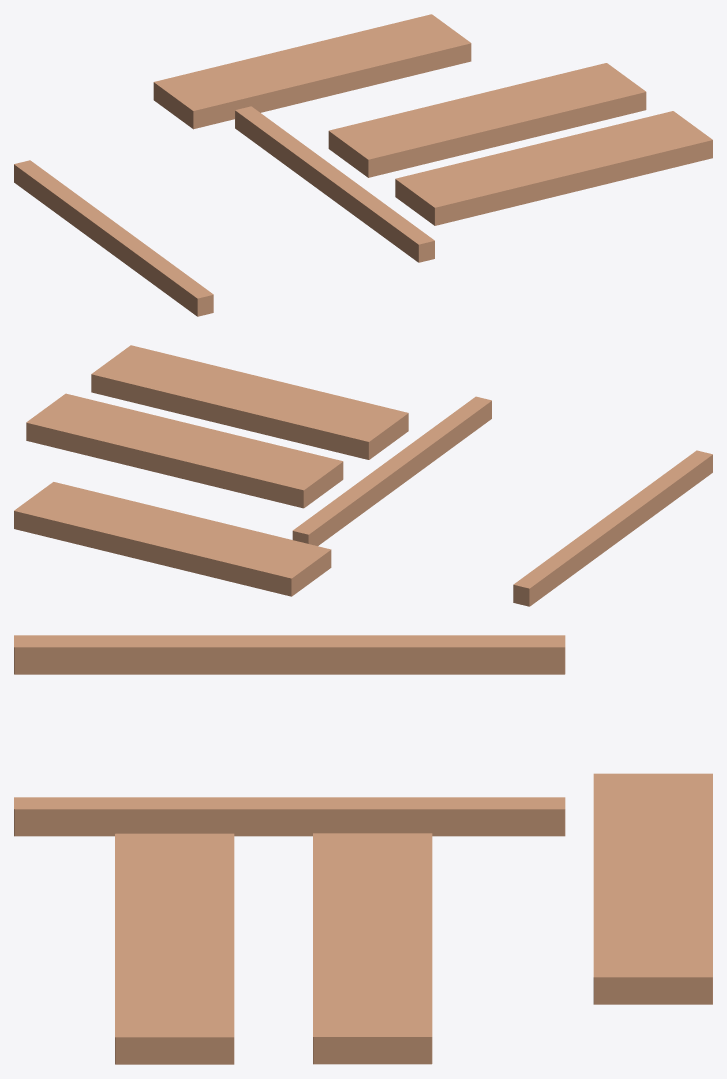
File: sign.fbx
3 renders of one model, top to bottom at view 1: azimuth 30°, elevation 25°; view 2: azimuth 150°, elevation 25°; view 3: azimuth 270°, elevation 25°, orthographic. The views are drawn at different scales.
Parts seen in each view (by area): view 1: Curve.003, Curve.004, Curve.002, Curve, Curve.001; view 2: Curve.003, Curve.002, Curve.004, Curve, Curve.001; view 3: Curve.002, Curve.003, Curve.004, Curve, Curve.001.
Part boxes in pixels (box(x1,y1,x2,y2)): Curve.003: box(328, 63, 646, 177); Curve.004: box(395, 111, 712, 225); Curve.002: box(153, 14, 471, 129); Curve: box(14, 160, 213, 316); Curve.001: box(235, 106, 434, 262); Curve.003: box(26, 393, 343, 508); Curve.002: box(14, 482, 331, 596); Curve.004: box(91, 345, 408, 459); Curve: box(513, 450, 712, 606); Curve.001: box(292, 396, 491, 545); Curve.002: box(593, 773, 712, 1004); Curve.003: box(313, 833, 432, 1064); Curve.004: box(115, 833, 234, 1064); Curve: box(14, 635, 565, 674); Curve.001: box(14, 797, 565, 836).
Size of the model in its own units: 63.27 by 2 by 46.48.
